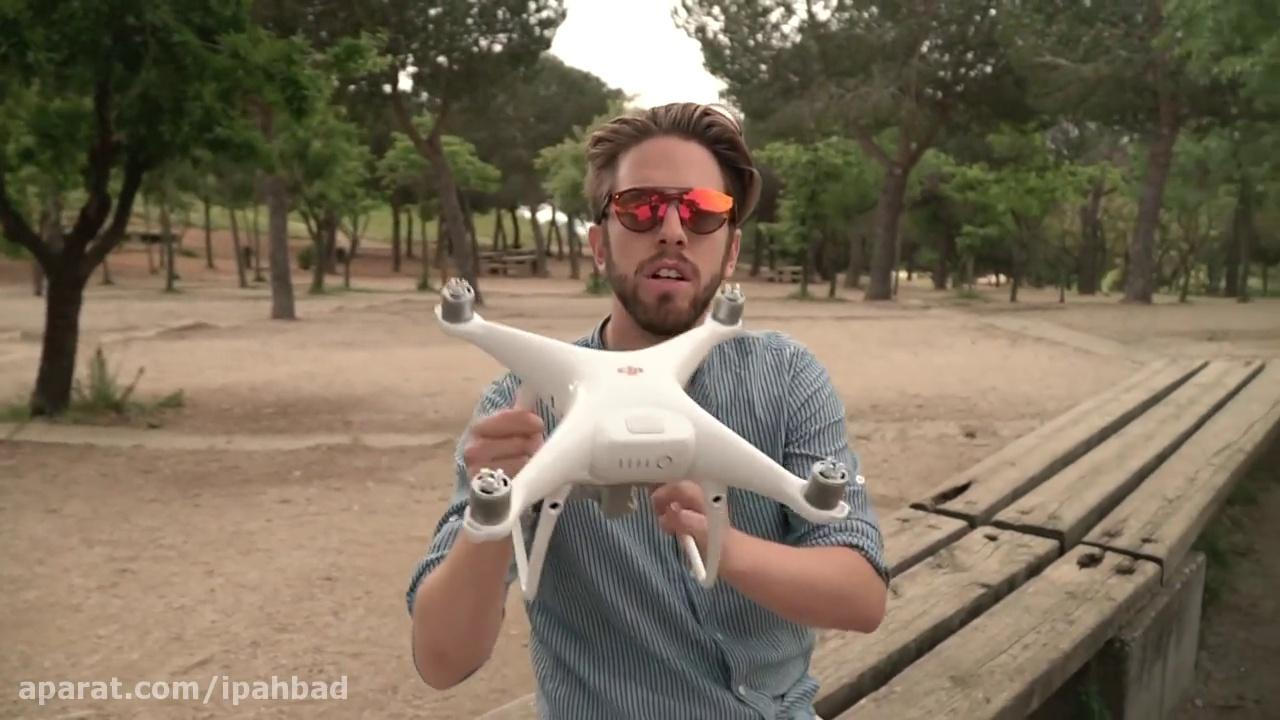drone: (430, 273, 851, 597)
